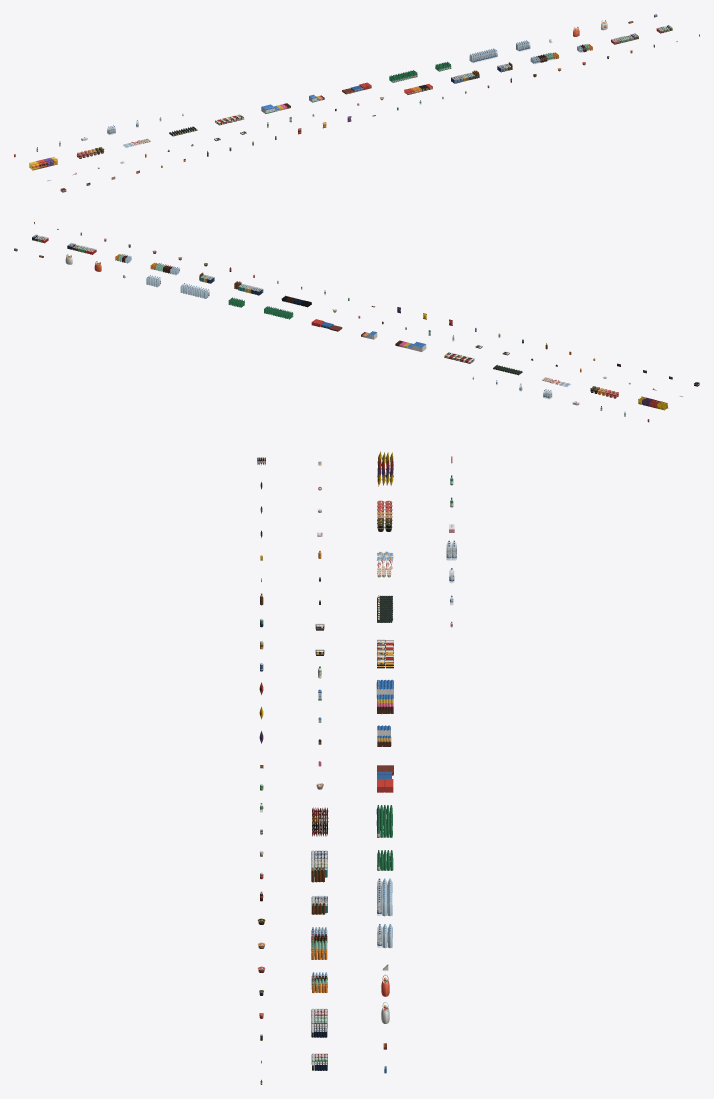
Rendered from SeoulCorner_StoreProducts.glb.
3 views of the same model, one above another, from view 1: azimuth 30°, elevation 25°; view 2: azimuth 150°, elevation 25°; view 3: azimuth 270°, elevation 25° (orthographic). The views are drawn at different scales.
Size of the model in its own units: 29.99 by 0.4145 by 4.07.
3 materials, 3 textured.
